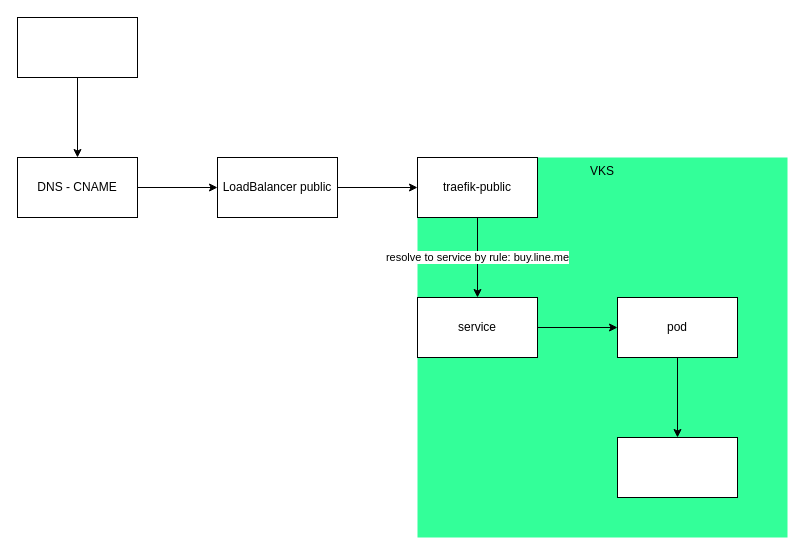
Some shapes in this 805 by 555 pixel diagram are drawn without their labels. The centre of each missing label's shape, as x and y in pixels:
"buy.line.me" belongs at [77,47].
"container" belongs at [677,467].
